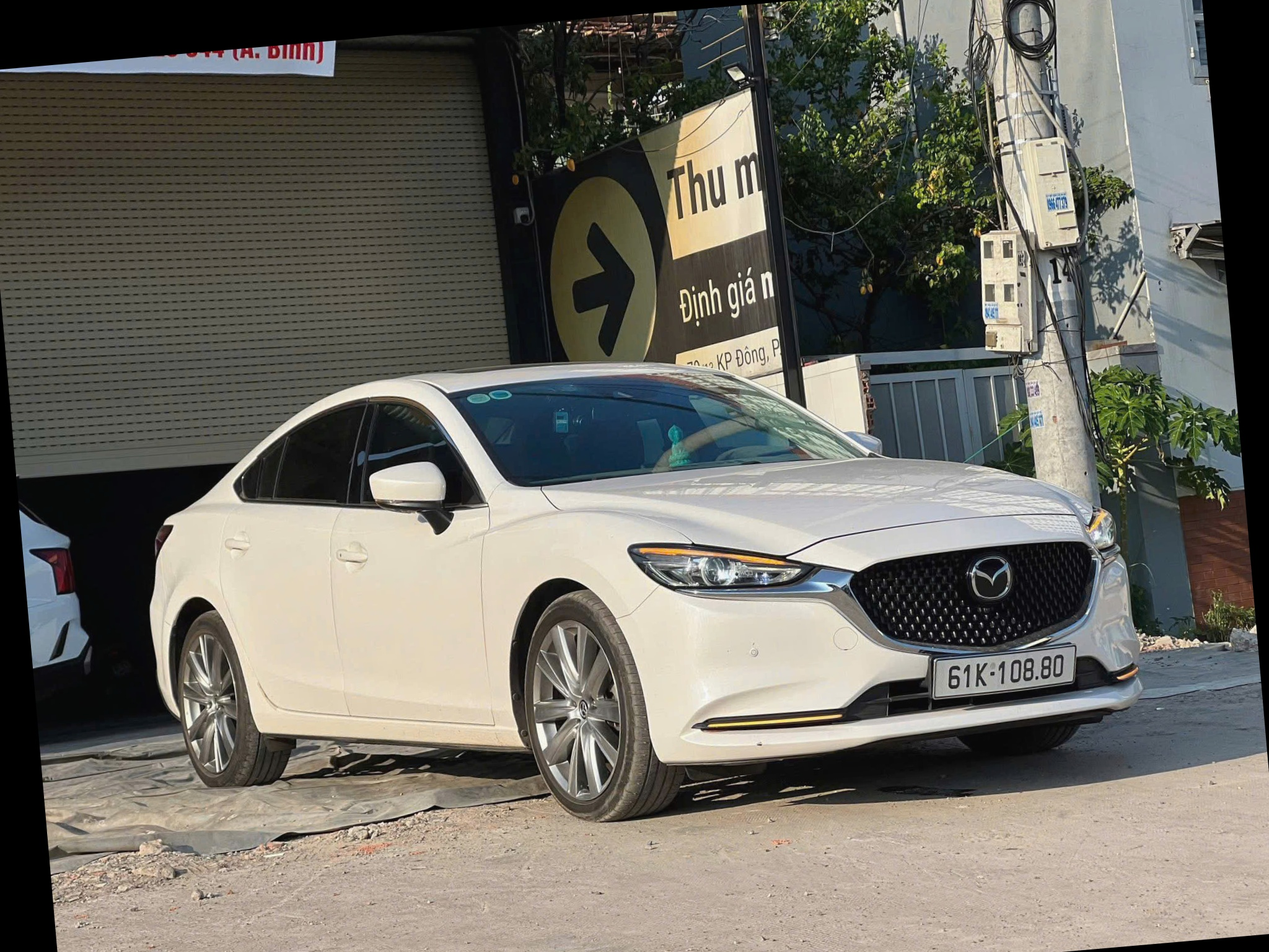Bien-so: (912, 656, 1072, 715)
